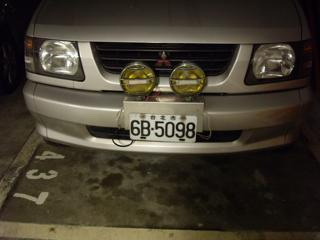plate: (127, 111, 199, 146)
